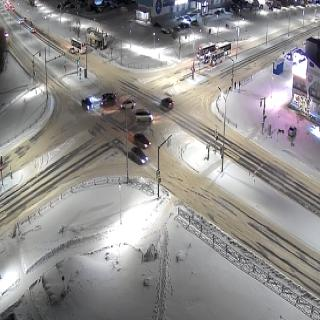large-vehicle: (197, 44, 215, 58), (72, 37, 86, 54), (211, 51, 225, 66), (216, 43, 231, 54)
small-vehicle: (128, 151, 151, 166), (135, 132, 152, 152), (100, 94, 116, 110), (136, 109, 152, 124), (120, 98, 136, 112), (81, 95, 94, 112), (161, 98, 174, 112), (288, 126, 296, 138), (286, 51, 293, 62), (161, 28, 169, 36), (67, 48, 76, 55), (191, 20, 200, 27), (203, 56, 210, 64), (154, 22, 162, 29), (30, 26, 36, 35), (19, 18, 24, 27), (4, 31, 9, 38)
